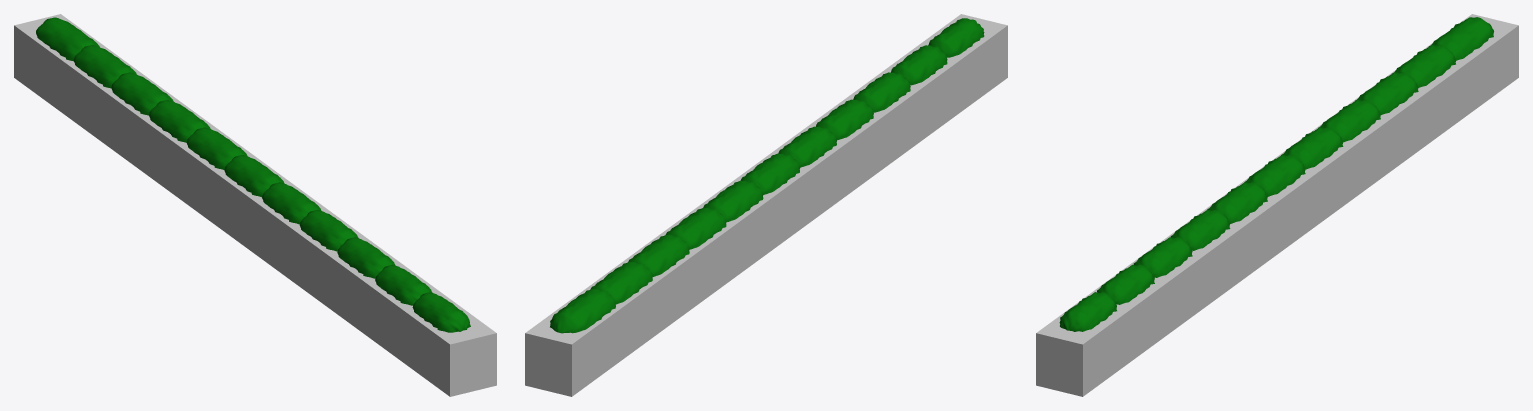
Rendered from outside_bushes.fbx.
3 renders of one model, left to right at view 1: azimuth 30°, elevation 25°; view 2: azimuth 150°, elevation 25°; view 3: azimuth 330°, elevation 25°, orthographic.
Parts seen in each view (by area): view 1: Cube_1, Capsule_1, Capsule_1_9, Capsule_1_8, Capsule_1_7, Capsule_1_6, Capsule_1_5, Capsule_1_4, Capsule_1_3, Capsule_1_2, Capsule_1_1, Capsule_1_0; view 2: Cube_1, Capsule_1_9, Capsule_1_8, Capsule_1_7, Capsule_1_6, Capsule_1_5, Capsule_1_4, Capsule_1_3, Capsule_1_2, Capsule_1_1, Capsule_1_0, Capsule_1; view 3: Cube_1, Capsule_1_9, Capsule_1, Capsule_1_8, Capsule_1_7, Capsule_1_6, Capsule_1_5, Capsule_1_4, Capsule_1_3, Capsule_1_2, Capsule_1_1, Capsule_1_0.
Boxes of the visible parts, x1,y1,x2,y2 form: Cube_1: [14, 14, 496, 396]; Capsule_1: [412, 292, 470, 332]; Capsule_1_9: [36, 17, 99, 61]; Capsule_1_8: [73, 45, 136, 88]; Capsule_1_7: [111, 72, 173, 115]; Capsule_1_6: [149, 100, 210, 142]; Capsule_1_5: [186, 127, 247, 169]; Capsule_1_4: [224, 155, 284, 197]; Capsule_1_3: [262, 182, 321, 224]; Capsule_1_2: [299, 210, 358, 251]; Capsule_1_1: [337, 237, 394, 278]; Capsule_1_0: [375, 264, 432, 305]; Cube_1: [525, 14, 1007, 396]; Capsule_1_9: [550, 289, 615, 333]; Capsule_1_8: [590, 262, 652, 304]; Capsule_1_7: [628, 234, 689, 276]; Capsule_1_6: [665, 207, 726, 249]; Capsule_1_5: [703, 180, 763, 222]; Capsule_1_4: [741, 153, 800, 194]; Capsule_1_3: [778, 126, 836, 167]; Capsule_1_2: [816, 99, 873, 140]; Capsule_1_1: [853, 72, 910, 112]; Capsule_1_0: [891, 45, 947, 85]; Capsule_1: [928, 18, 984, 57]; Cube_1: [1036, 14, 1518, 396]; Capsule_1_9: [1428, 17, 1493, 60]; Capsule_1: [1059, 292, 1116, 331]; Capsule_1_8: [1392, 44, 1455, 87]; Capsule_1_7: [1355, 72, 1418, 114]; Capsule_1_6: [1318, 99, 1380, 142]; Capsule_1_5: [1281, 127, 1343, 169]; Capsule_1_4: [1244, 154, 1305, 196]; Capsule_1_3: [1207, 182, 1267, 223]; Capsule_1_2: [1170, 209, 1230, 250]; Capsule_1_1: [1133, 237, 1192, 277]; Capsule_1_0: [1097, 264, 1154, 304].
Size of the model in its own units: 175 by 242 by 2833.
